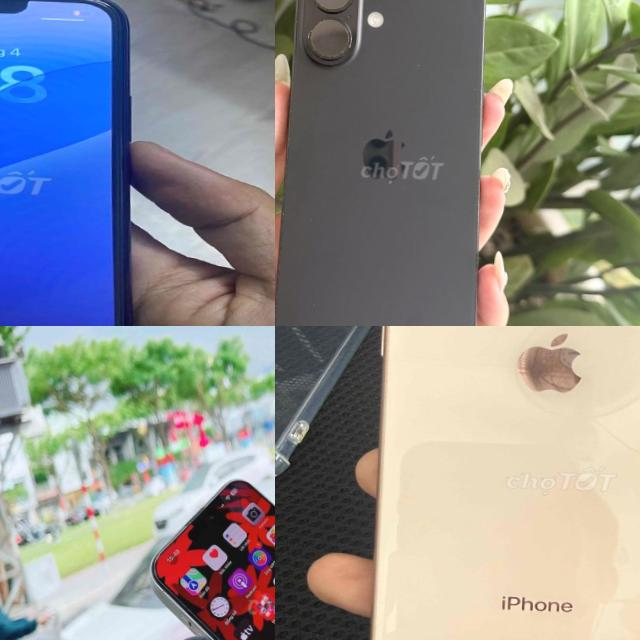gen_11: (0, 0, 155, 326)
gen_15: (137, 468, 275, 640)
gen_16: (275, 0, 497, 326)
gen_7_8: (349, 326, 640, 640)
scratch: (304, 17, 356, 67), (299, 0, 358, 16)
